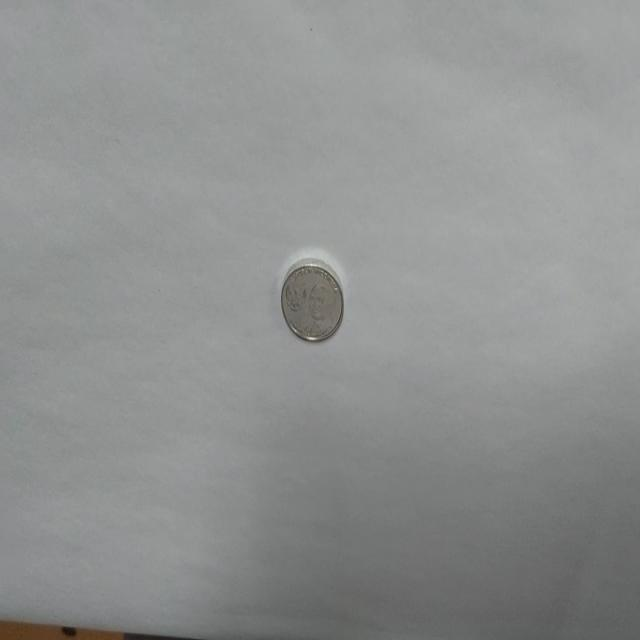lima ratus rupiah: (280, 258, 344, 344)
